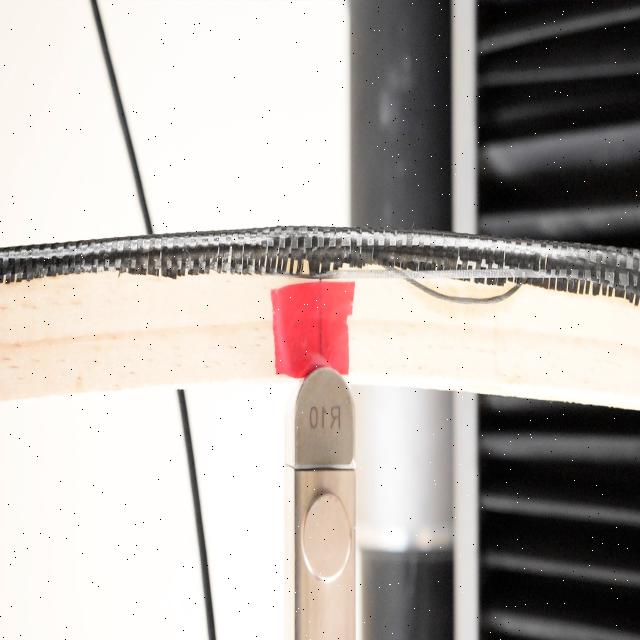wood: (0, 226, 639, 408)
